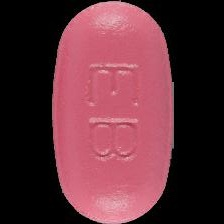69189-0112: (0, 0, 224, 224)
